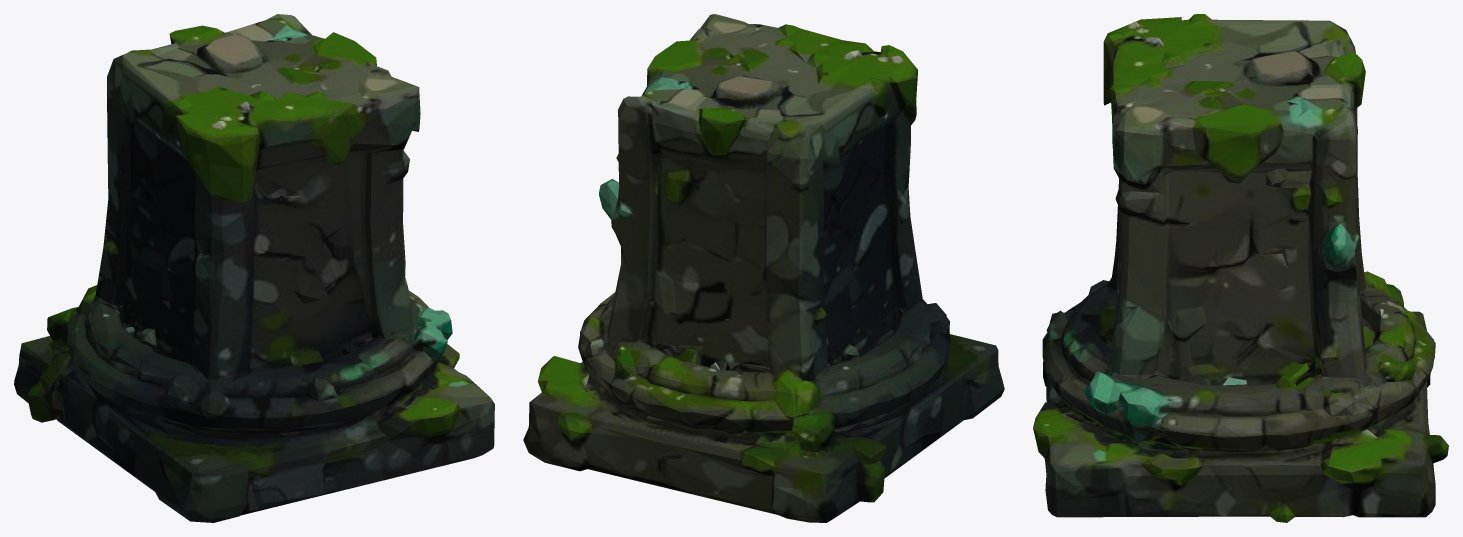
File: pillar_stump.glb
3 renders of one model, left to right at view 1: azimuth 30°, elevation 25°; view 2: azimuth 150°, elevation 25°; view 3: azimuth 270°, elevation 25°, orthographic. The views are drawn at different scales.
Visible parts, largest first — view 1: tripo_node_0b8d0740-050a-4aef-a77b-a70ce0667be4.001; view 2: tripo_node_0b8d0740-050a-4aef-a77b-a70ce0667be4.001; view 3: tripo_node_0b8d0740-050a-4aef-a77b-a70ce0667be4.001.
Part boxes in pixels (x1,y1,x2,y2): tripo_node_0b8d0740-050a-4aef-a77b-a70ce0667be4.001: [14, 14, 494, 522]; tripo_node_0b8d0740-050a-4aef-a77b-a70ce0667be4.001: [523, 14, 1004, 522]; tripo_node_0b8d0740-050a-4aef-a77b-a70ce0667be4.001: [1033, 14, 1448, 522].
Bounding box in the file's own units: 0.9859 × 0.9992 × 0.9815.
Materials: 1 (1 with a texture image).
